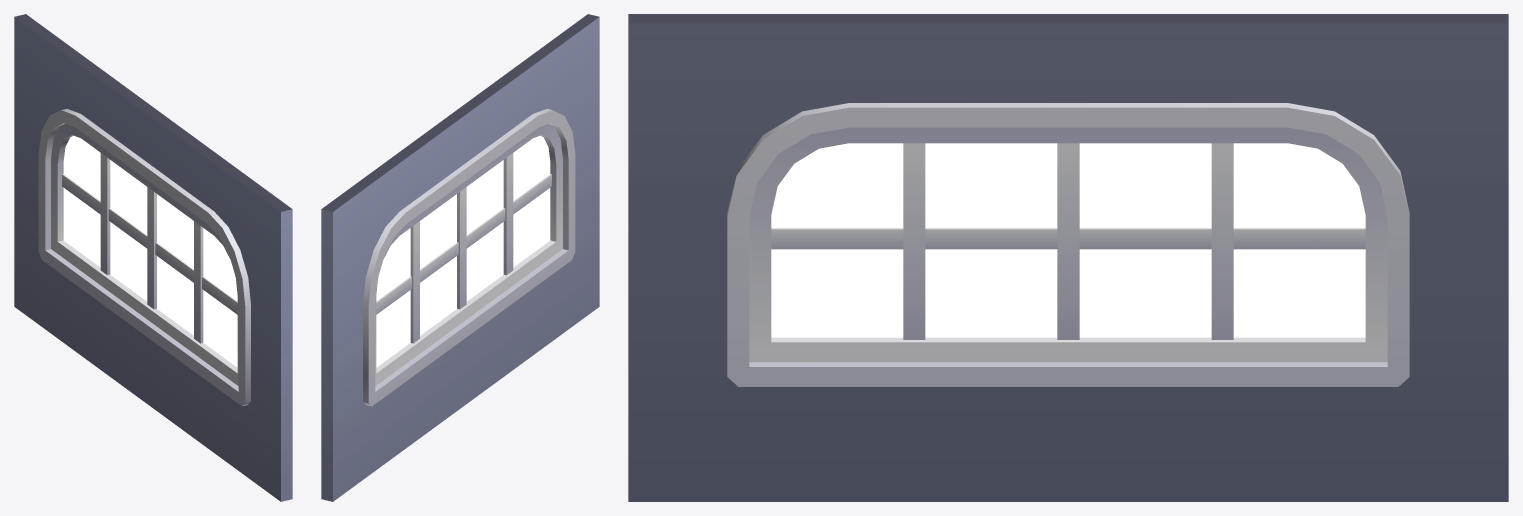
Rendered from kenney-building-wall-window-wide-round-detailed.glb.
3 views of the same model, side by side, from view 1: azimuth 30°, elevation 25°; view 2: azimuth 150°, elevation 25°; view 3: azimuth 270°, elevation 25° (orthographic). The views are drawn at different scales.
Parts seen in each view (by area): view 1: wall-window-wide-round-detailed, (%ignore); view 2: wall-window-wide-round-detailed, (%ignore); view 3: wall-window-wide-round-detailed, (%ignore).
Boxes of the visible parts, left/top/right/bottom form: wall-window-wide-round-detailed: left=14, top=14, right=292, bottom=501; (%ignore): left=63, top=135, right=237, bottom=367; wall-window-wide-round-detailed: left=321, top=14, right=599, bottom=501; (%ignore): left=376, top=135, right=550, bottom=367; wall-window-wide-round-detailed: left=628, top=14, right=1508, bottom=501; (%ignore): left=771, top=143, right=1365, bottom=337.
Size of the model in its own units: 0.2002 by 2.4 by 4.
Materials: 2 (1 with a texture image).
